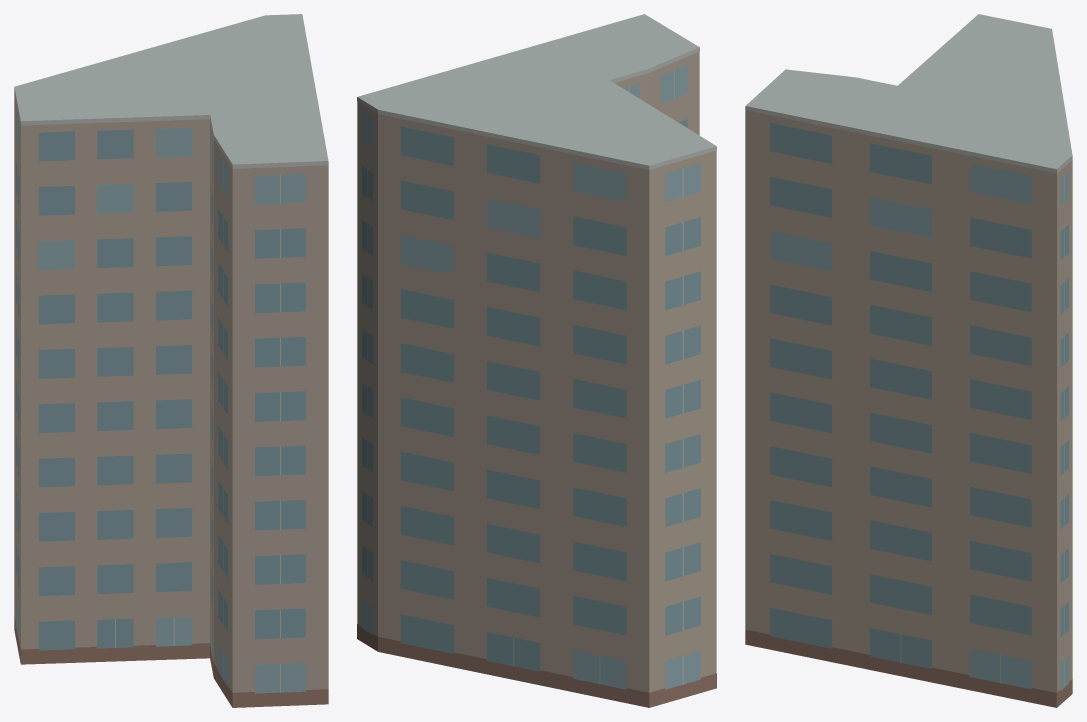
File: survey-upis-33025087.glb
The picture shows the model from 3 angles, left to right: view 1: azimuth 30°, elevation 25°; view 2: azimuth 150°, elevation 25°; view 3: azimuth 270°, elevation 25°; orthographic projection.
Parts seen in each view (by area): view 1: survey-upis-33025087.tmp; view 2: survey-upis-33025087.tmp; view 3: survey-upis-33025087.tmp.
Part boxes in pixels (x1=…): survey-upis-33025087.tmp: x1=14, y1=14, x2=328, y2=707; survey-upis-33025087.tmp: x1=357, y1=14, x2=716, y2=707; survey-upis-33025087.tmp: x1=745, y1=14, x2=1072, y2=707.
Size of the model in its own units: 19.05 by 30.8 by 16.96.
